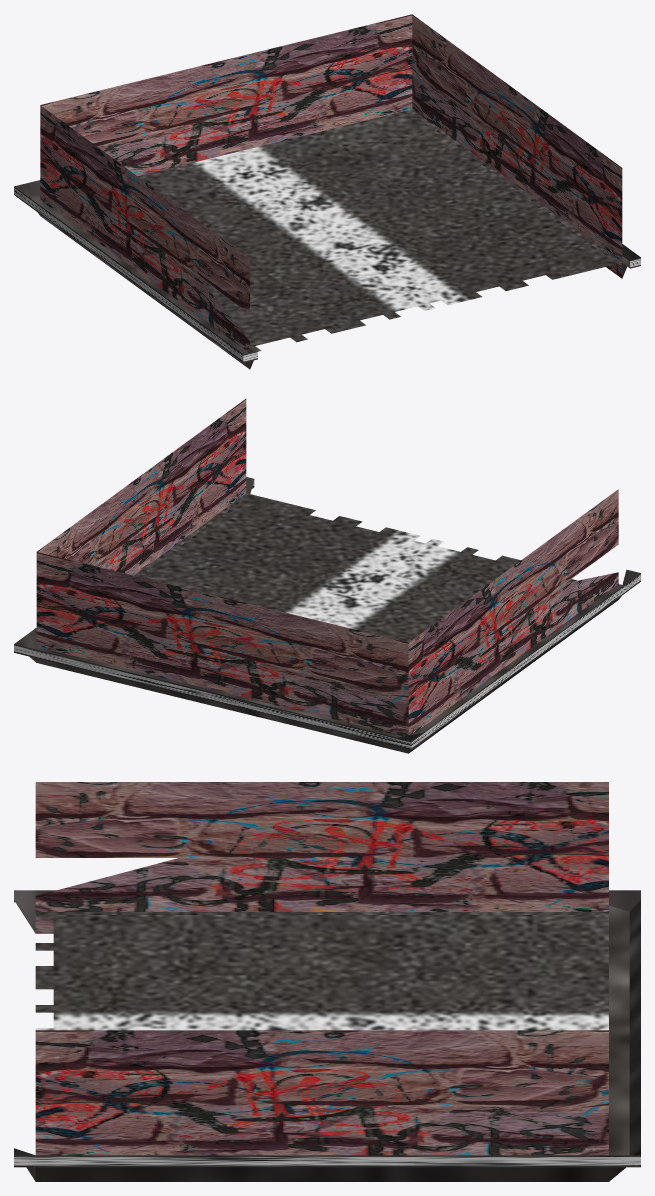
The model's file is decor4.obj.
The picture shows the model from 3 angles, top to bottom: view 1: azimuth 30°, elevation 25°; view 2: azimuth 150°, elevation 25°; view 3: azimuth 270°, elevation 25°; orthographic projection. The views are drawn at different scales.
Parts seen in each view (by area): view 1: Cube.045_Cube.048; view 2: Cube.045_Cube.048; view 3: Cube.045_Cube.048.
Part boxes in pixels (bbox=[...]): Cube.045_Cube.048: bbox=[14, 14, 640, 369]; Cube.045_Cube.048: bbox=[14, 398, 640, 753]; Cube.045_Cube.048: bbox=[14, 782, 640, 1181].
Bounding box in the file's own units: 14201 × 3789 × 14201.
Materials: 2 (2 with a texture image).
